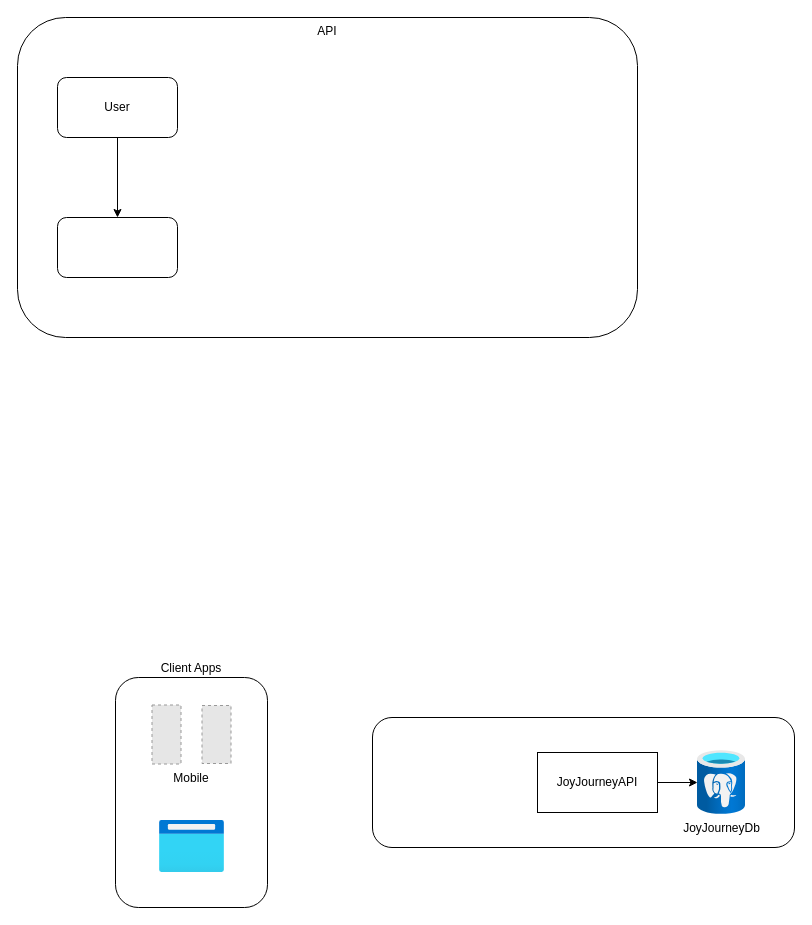
Some shapes in this 812 by 925 pixel diagram are drawn without their labels. Grey dashed boxes stand in for pictures. Each missing label, with the centre of its shape:
Browser: the point at 191,846
Journal: the point at 117,247
